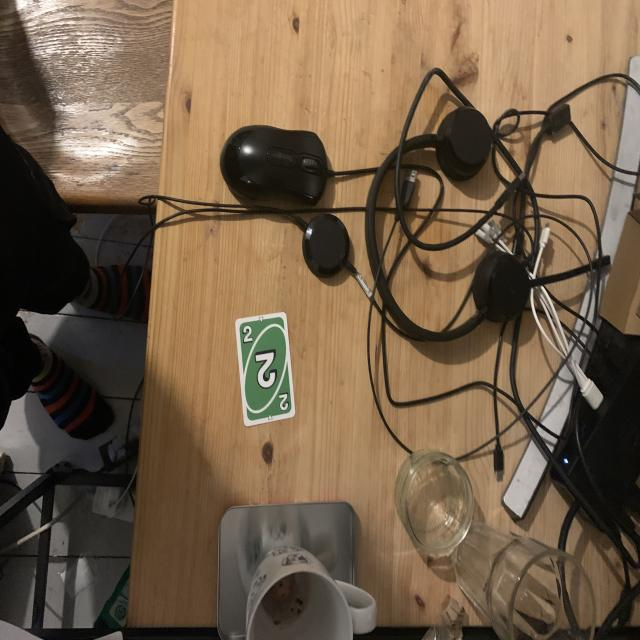lgreen-2: (239, 324, 254, 346)
